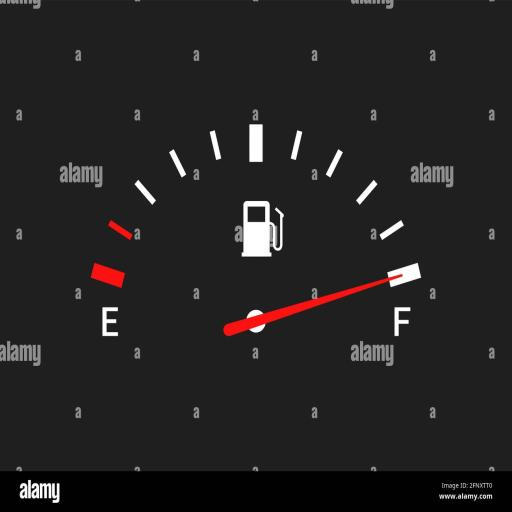empty: (97, 302, 121, 346)
fuel_icon: (240, 194, 284, 258)
full: (391, 304, 409, 339)
guage_area: (92, 113, 415, 347)
needle_center: (238, 300, 270, 344)
needle_tip: (371, 272, 411, 292)
